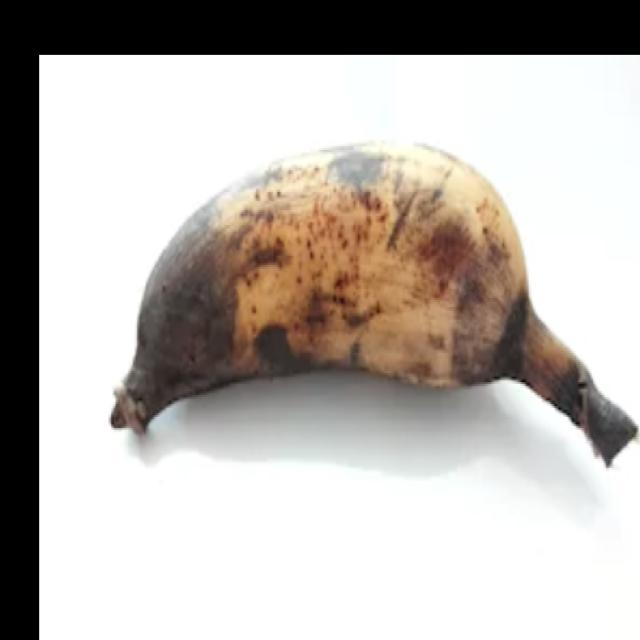Rotten: (88, 118, 640, 515)
